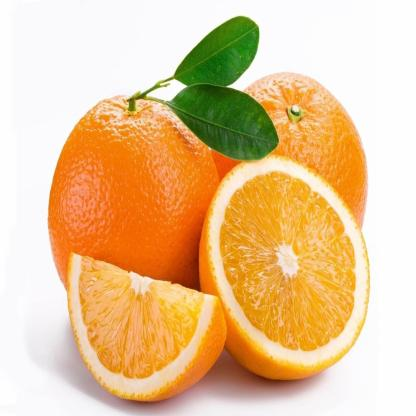orange: (42, 89, 233, 338), (192, 62, 372, 292)
